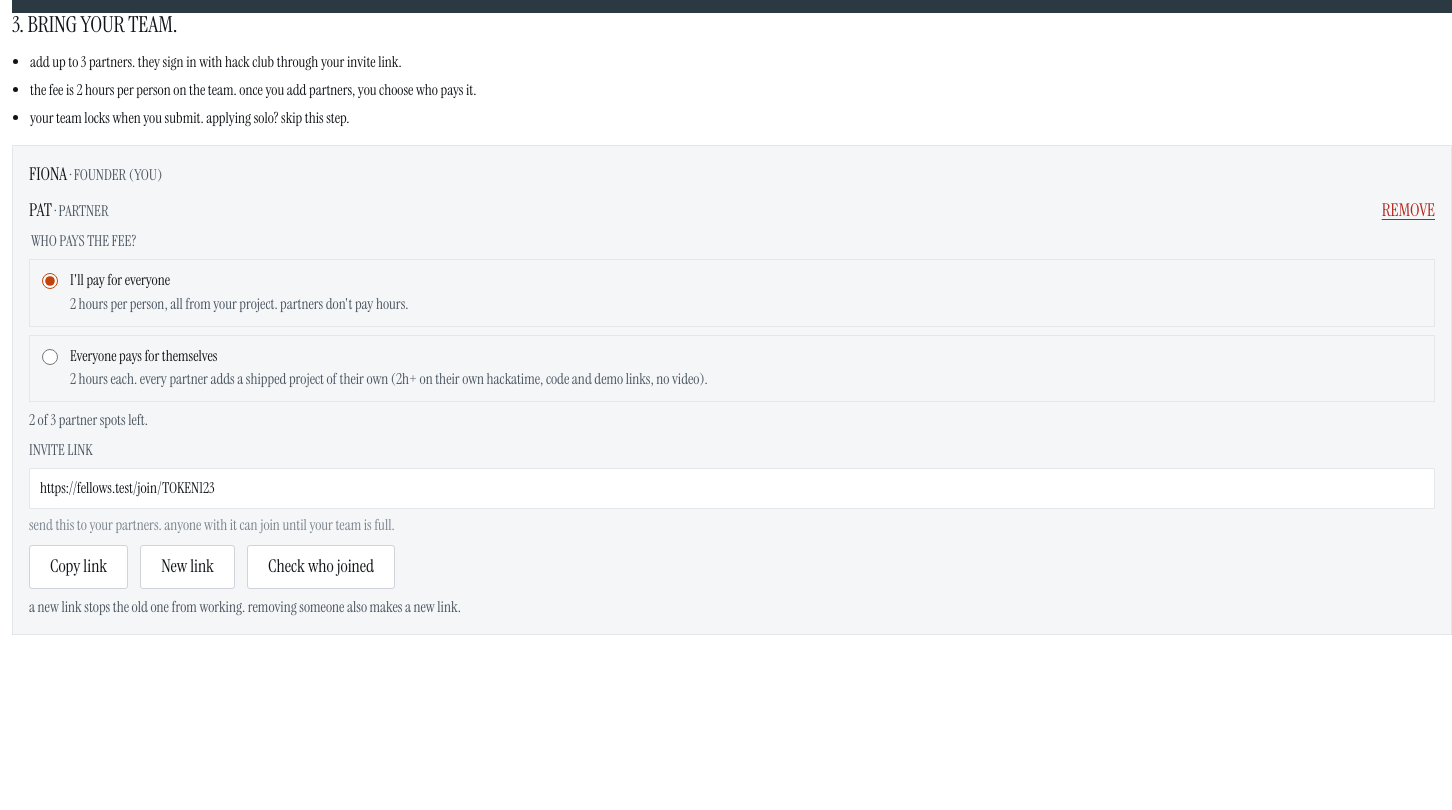
Scenario: Team section contents › removes a partner and shows the new link
This screenshot has width=1452, height=810.
Click the button with aria-label "Remove Pat": point(1408, 211) [1382, 198, 1435, 223]
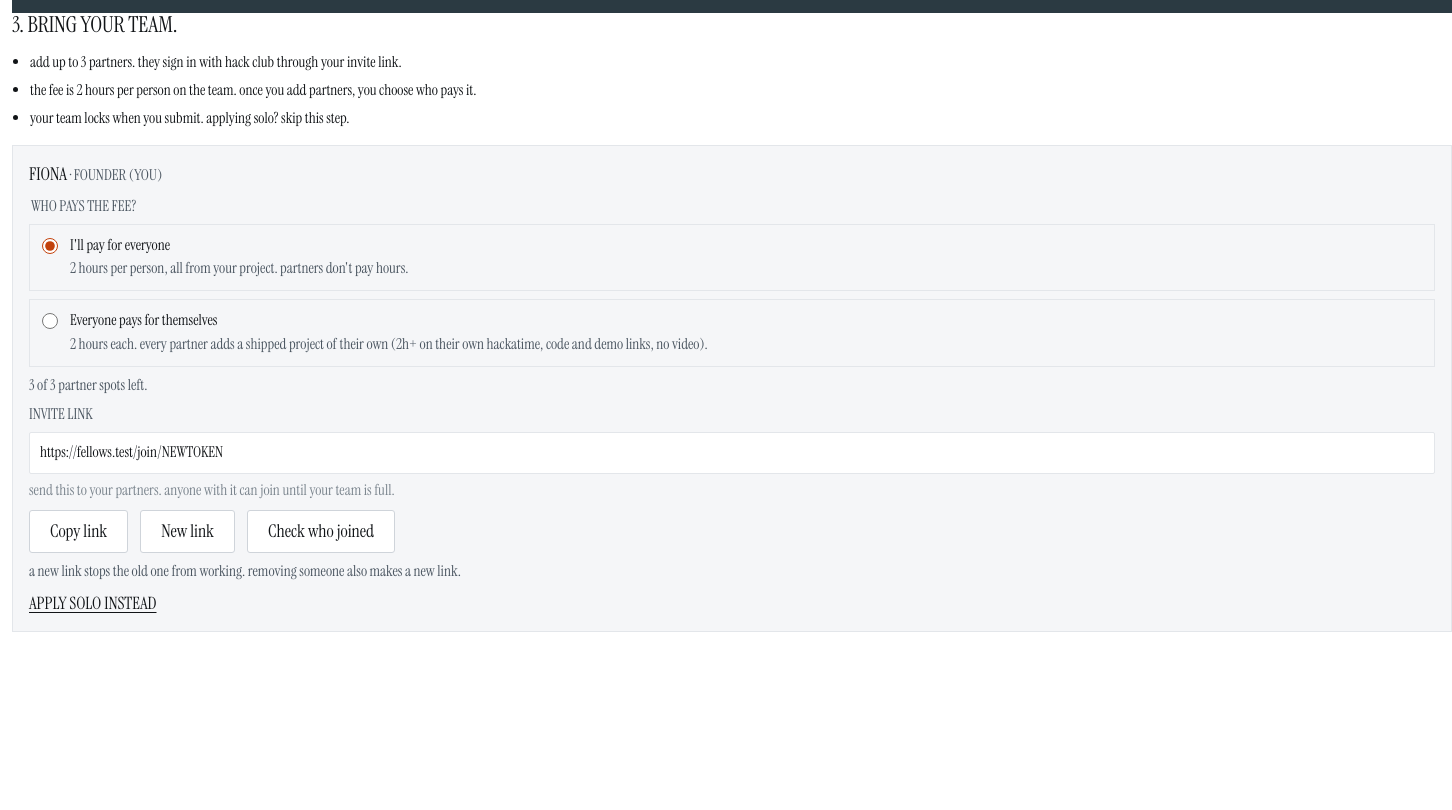
Check: the field labelled "Invite link" holds "https://fellows.test/join/NEWTOKEN", box [29, 432, 1435, 474]
Check: the text "Pat" is gone
